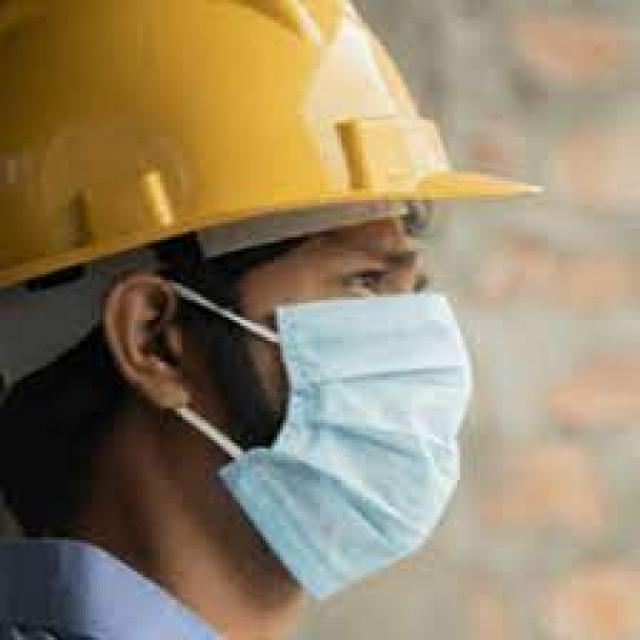Safety-Helmet: (3, 5, 517, 288)
